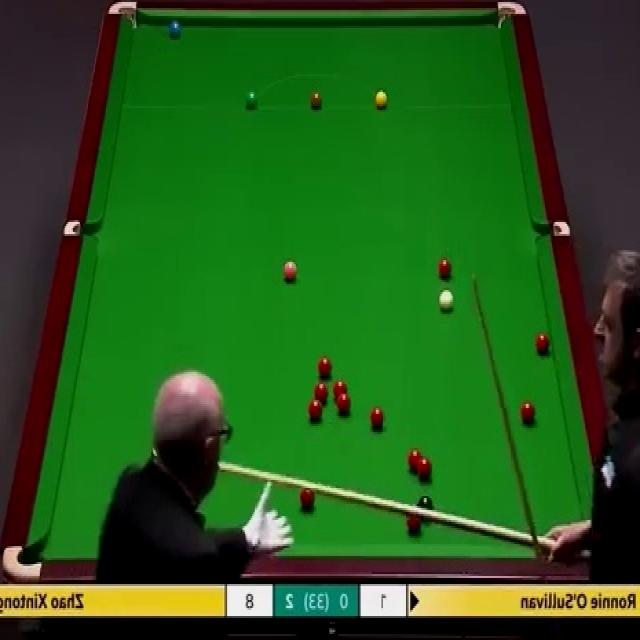black-ball: (417, 494, 434, 521)
blue-ball: (168, 16, 183, 41)
brown-ball: (309, 91, 323, 111)
green-ball: (246, 90, 260, 112)
pink-ball: (280, 256, 299, 284)
red-ball: (405, 509, 423, 536), (520, 398, 537, 426), (415, 457, 434, 482), (534, 330, 552, 356), (368, 408, 384, 432), (300, 485, 315, 510), (336, 393, 352, 416), (437, 256, 452, 280), (317, 355, 332, 379), (332, 379, 349, 400), (406, 448, 422, 470), (308, 398, 323, 420), (313, 382, 329, 402)
white-ball: (437, 286, 454, 312)
yellow-ball: (374, 90, 388, 110)
